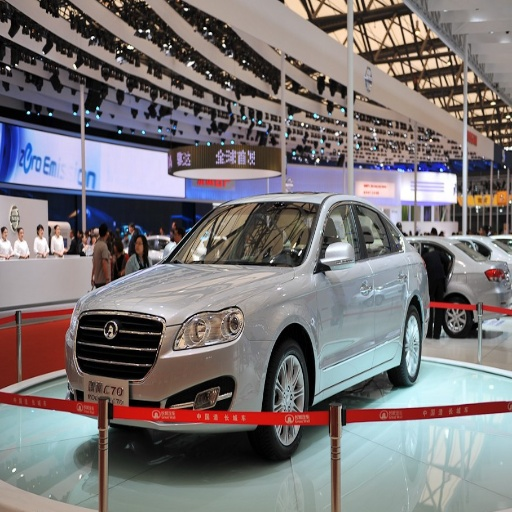front_bumper: (69, 305, 286, 429)
front_glass: (165, 202, 318, 267)
front_left_door: (314, 198, 375, 370)
